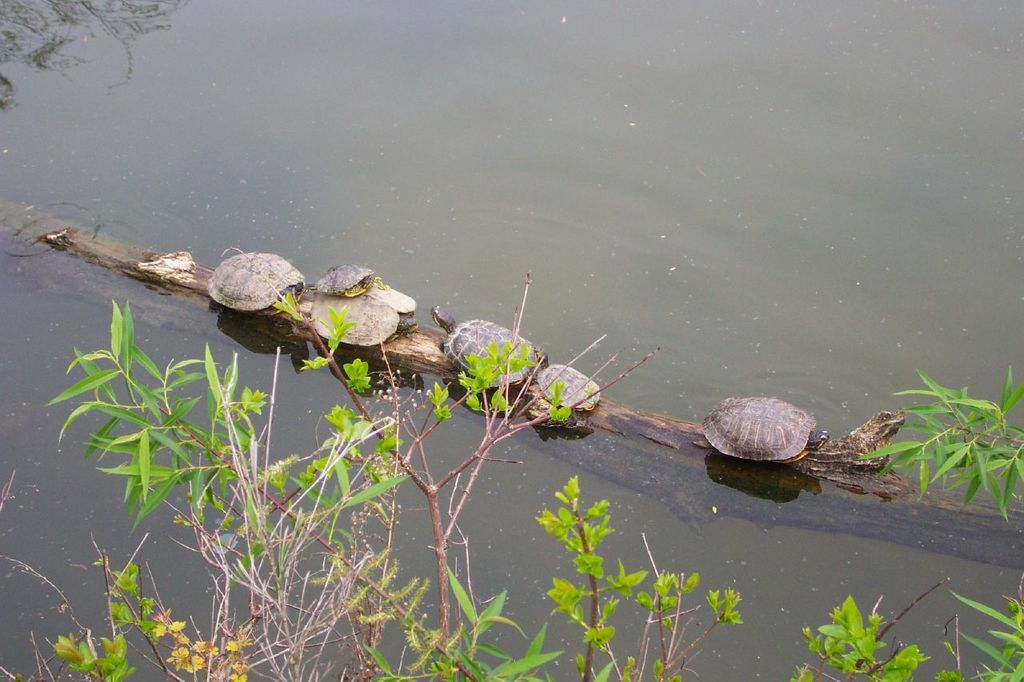Sea turtles: (428, 302, 543, 382), (295, 275, 419, 345), (704, 400, 828, 457), (202, 243, 307, 310), (536, 353, 601, 409), (309, 261, 375, 292)
